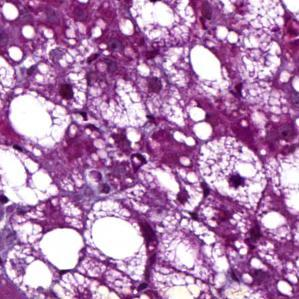ballooning: (79, 194, 167, 290), (194, 133, 269, 213), (25, 43, 89, 111)
